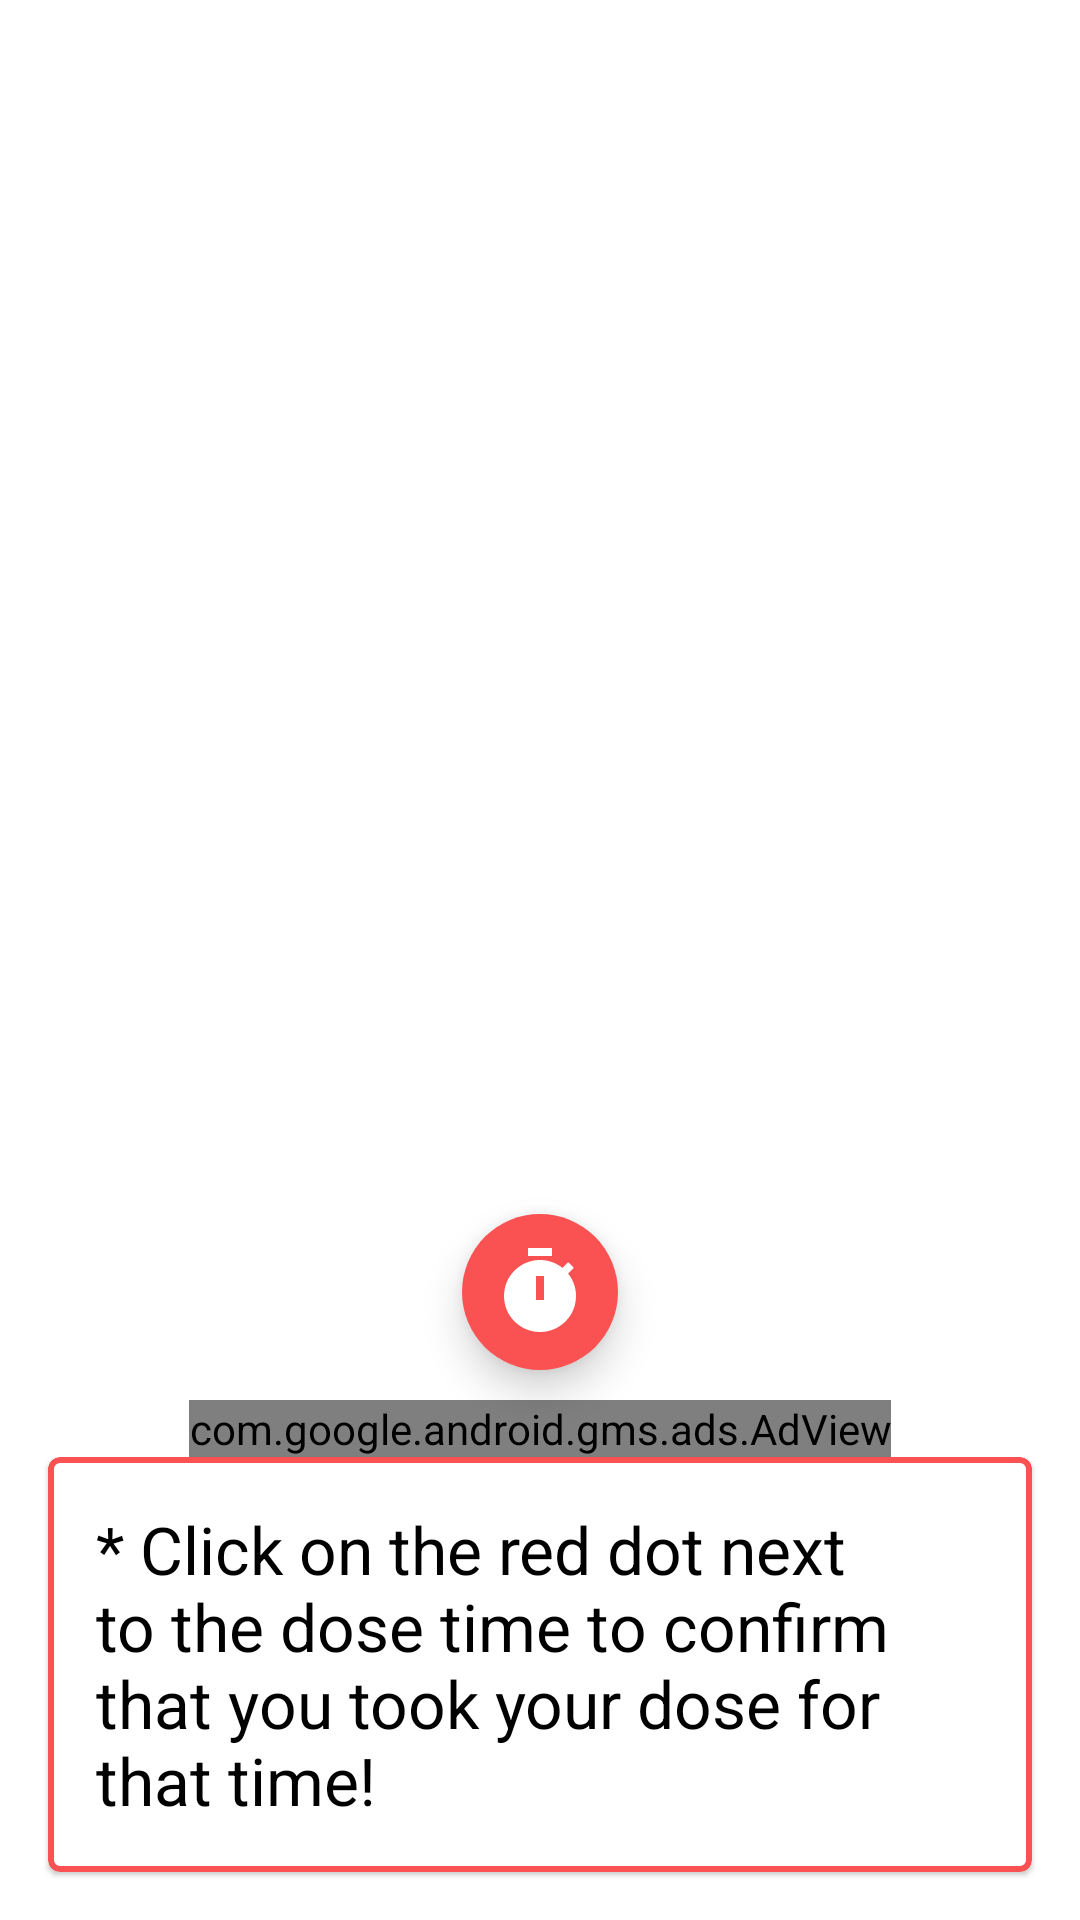

Locate icon controls on the screen. Image size 1080*1920, boxes as [x1, y1, x2, y2].
timer: [462, 1214, 618, 1370]
